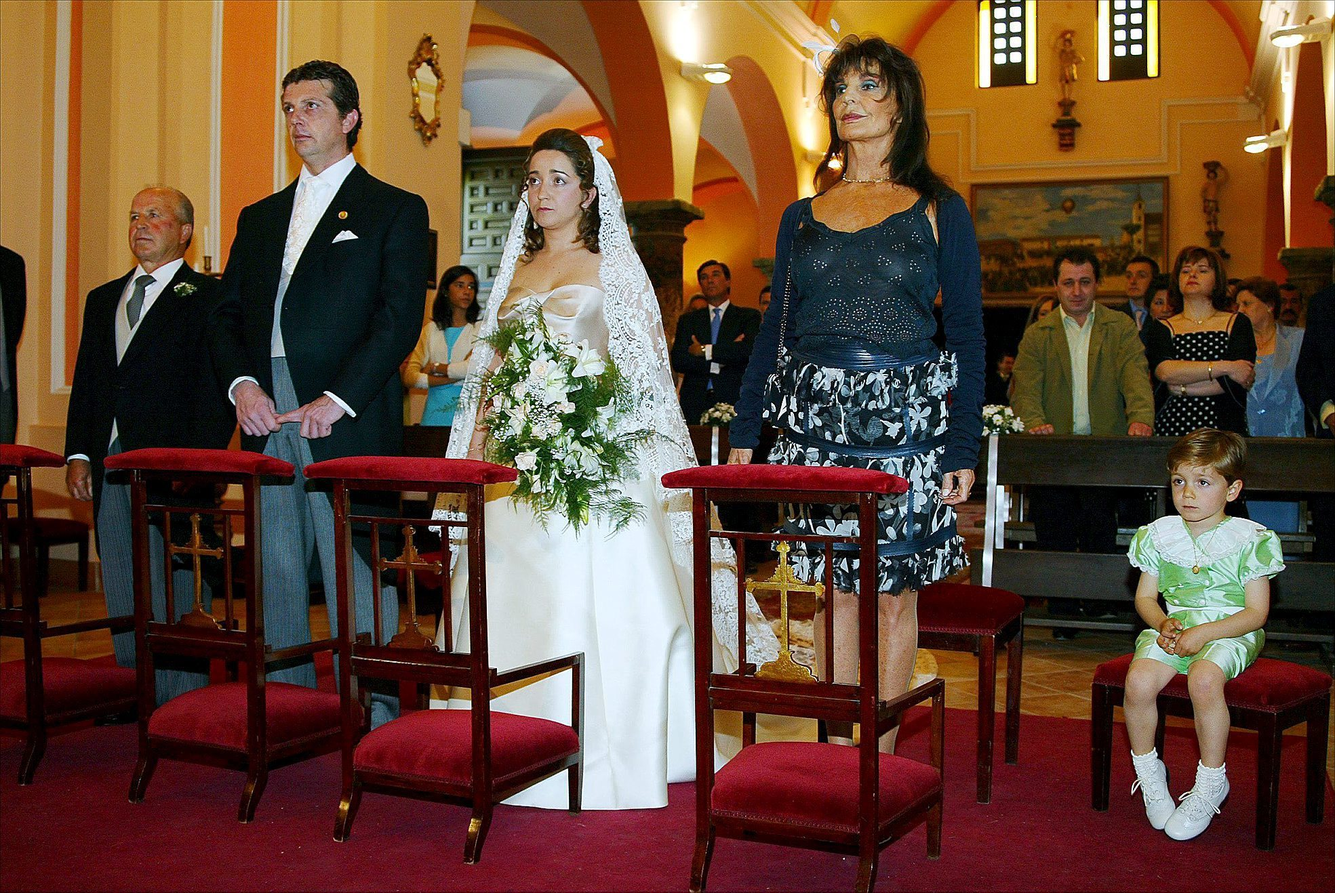Chaise: (374, 244, 652, 331)
